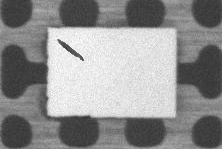DIE_INK: (82, 25, 127, 42)
